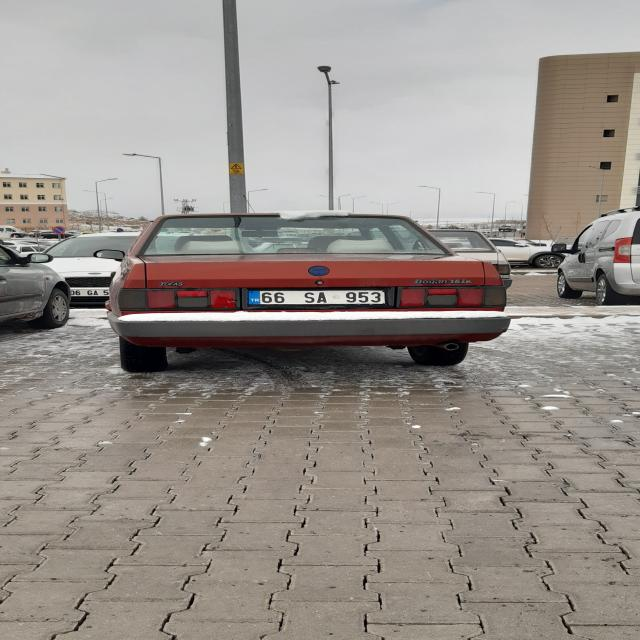license_plate: (246, 290, 386, 304)
